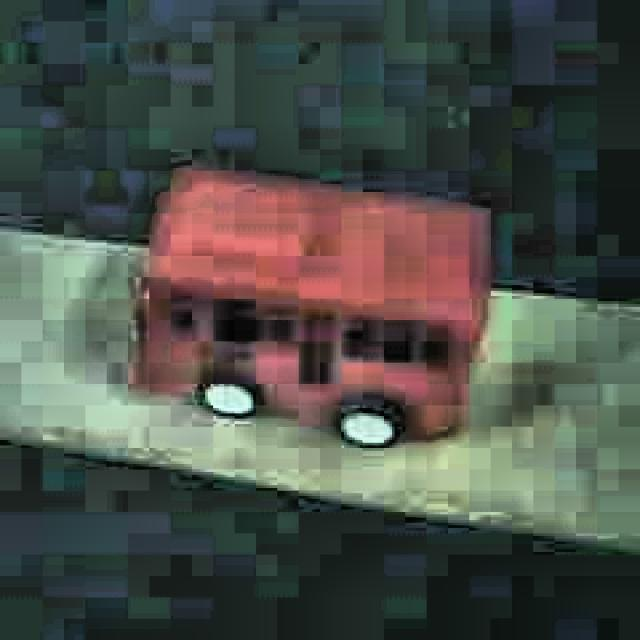bus: (132, 161, 493, 452)
